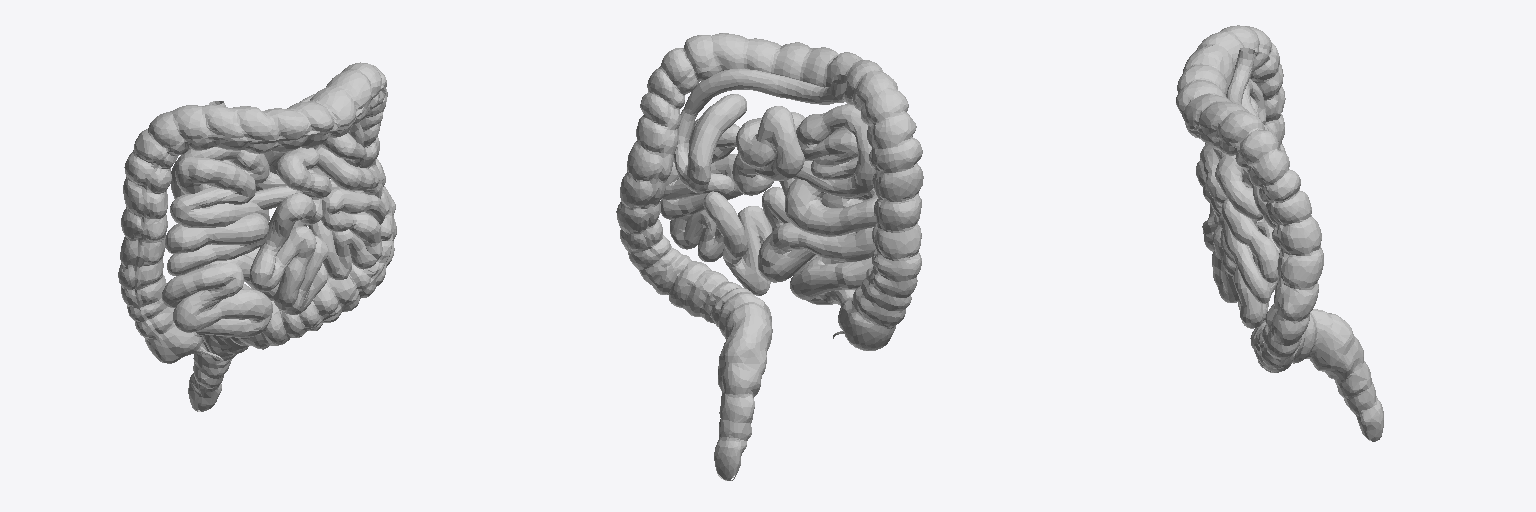
The model's file is organs_intestine.obj.
3 renders of one model, left to right at view 1: azimuth 30°, elevation 25°; view 2: azimuth 150°, elevation 25°; view 3: azimuth 270°, elevation 25°, orthographic.
Visible parts, largest first — view 1: Intestine_polySurface1.013; view 2: Intestine_polySurface1.013; view 3: Intestine_polySurface1.013.
Part boxes in pixels (x1,y1,x2,y2): Intestine_polySurface1.013: (118,62,396,411); Intestine_polySurface1.013: (616,33,923,480); Intestine_polySurface1.013: (1176,25,1383,441).
Size of the model in its own units: 21.2 by 26.6 by 13.36.